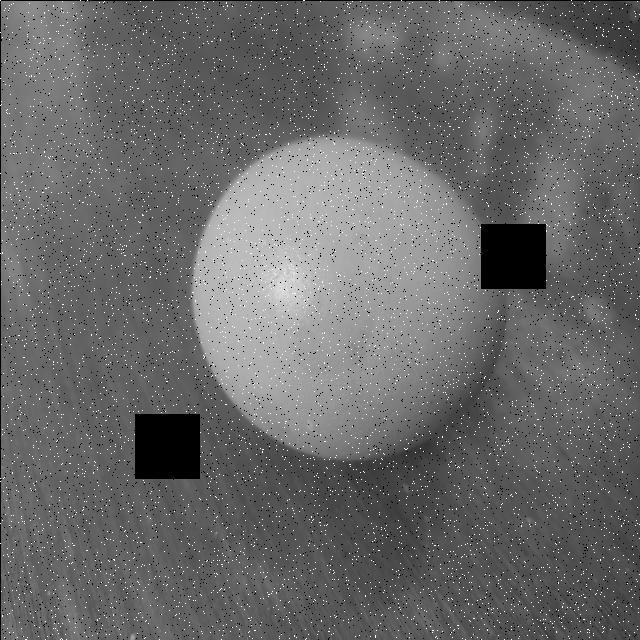egg: (180, 127, 518, 464)
